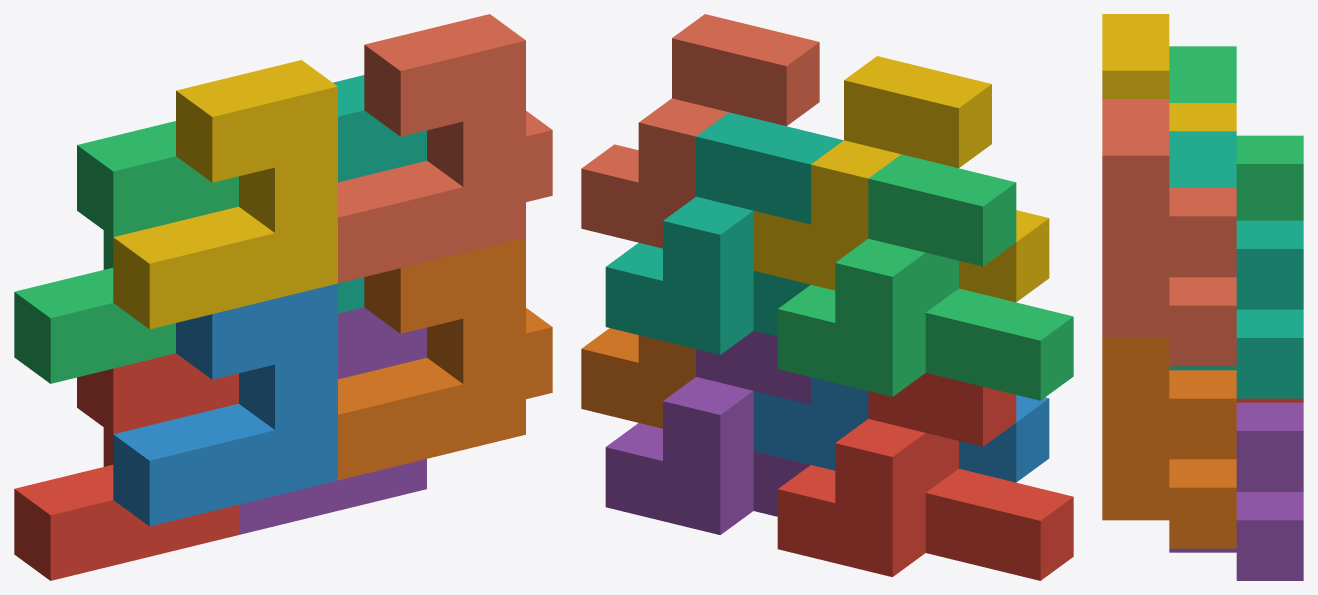
Rendered from tiling.obj.
3 renders of one model, left to right at view 1: azimuth 30°, elevation 25°; view 2: azimuth 150°, elevation 25°; view 3: azimuth 270°, elevation 25°, orthographic. The views are drawn at different scales.
Visible parts, largest first — view 1: copy_1_domain_4, copy_1_domain_8, copy_1_domain_2, copy_1_domain_6, copy_1_domain_3, copy_1_domain_1, copy_1_domain_5, copy_1_domain_7; view 2: copy_1_domain_3, copy_1_domain_1, copy_1_domain_7, copy_1_domain_4, copy_1_domain_8, copy_1_domain_5, copy_1_domain_2, copy_1_domain_6; view 3: copy_1_domain_8, copy_1_domain_6, copy_1_domain_7, copy_1_domain_5, copy_1_domain_3, copy_1_domain_4, copy_1_domain_1.
Part boxes in pixels (x1=…): copy_1_domain_4: x1=113, y1=60, x2=337, y2=329; copy_1_domain_8: x1=338, y1=14, x2=552, y2=283; copy_1_domain_2: x1=113, y1=283, x2=337, y2=526; copy_1_domain_6: x1=338, y1=237, x2=552, y2=480; copy_1_domain_3: x1=14, y1=121, x2=238, y2=383; copy_1_domain_1: x1=14, y1=353, x2=238, y2=580; copy_1_domain_5: x1=239, y1=307, x2=426, y2=534; copy_1_domain_7: x1=333, y1=75, x2=426, y2=313; copy_1_domain_3: x1=777, y1=154, x2=1073, y2=400; copy_1_domain_1: x1=777, y1=373, x2=1073, y2=580; copy_1_domain_7: x1=605, y1=112, x2=843, y2=354; copy_1_domain_4: x1=753, y1=56, x2=1049, y2=302; copy_1_domain_8: x1=581, y1=14, x2=819, y2=248; copy_1_domain_5: x1=605, y1=331, x2=810, y2=534; copy_1_domain_2: x1=753, y1=377, x2=1049, y2=482; copy_1_domain_6: x1=581, y1=328, x2=695, y2=428; copy_1_domain_8: x1=1102, y1=99, x2=1236, y2=366; copy_1_domain_6: x1=1102, y1=338, x2=1236, y2=548; copy_1_domain_7: x1=1169, y1=131, x2=1303, y2=398; copy_1_domain_5: x1=1169, y1=402, x2=1303, y2=580; copy_1_domain_3: x1=1169, y1=46, x2=1303, y2=220; copy_1_domain_4: x1=1102, y1=14, x2=1236, y2=131; copy_1_domain_1: x1=1236, y1=398, x2=1303, y2=402.
Bounding box in the file's own units: 8 × 7 × 3.
